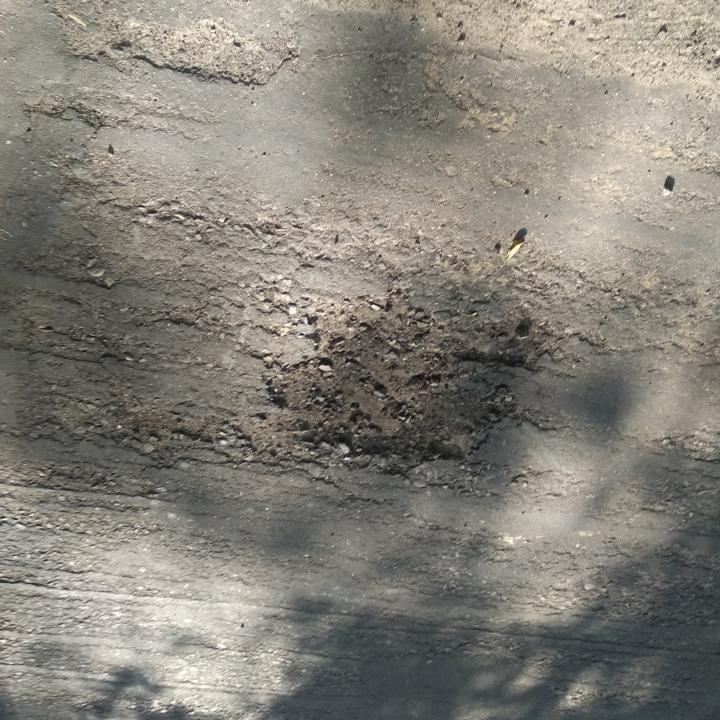pothole: (256, 296, 527, 471), (118, 15, 286, 92)
